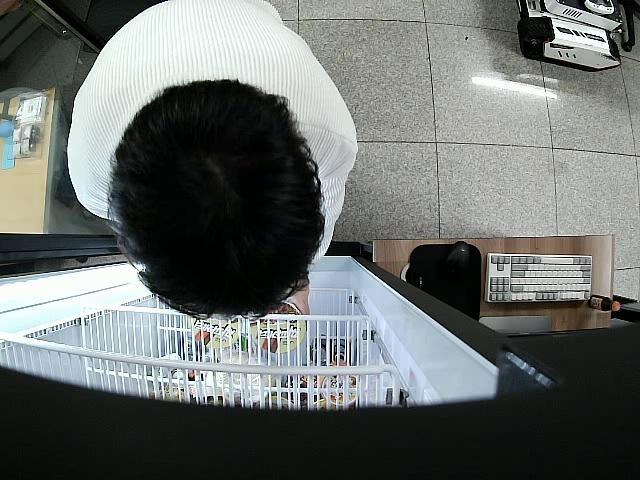03_chapagetti_L: (250, 303, 307, 354)
